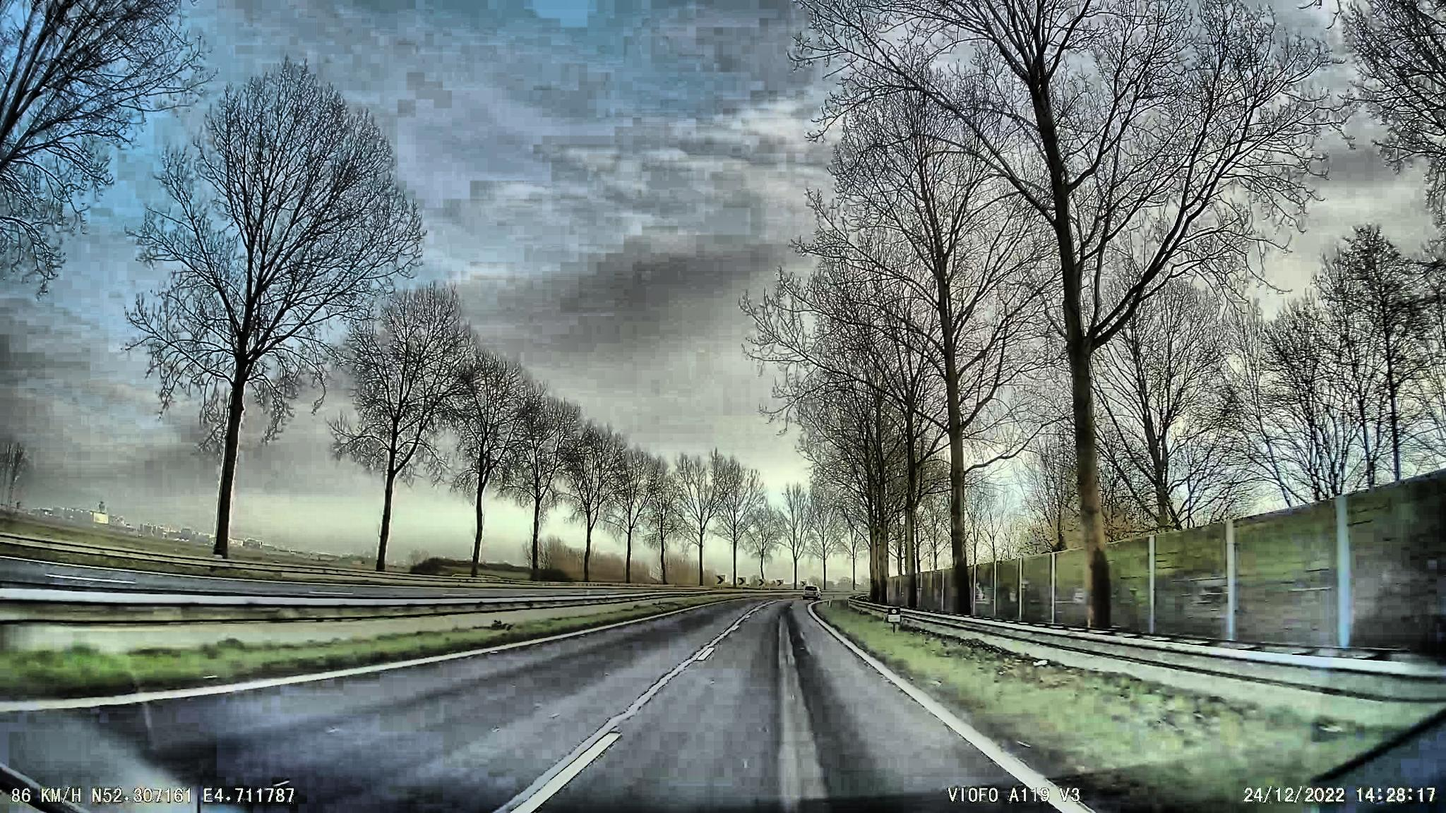Roads: (0, 604, 1051, 813)
